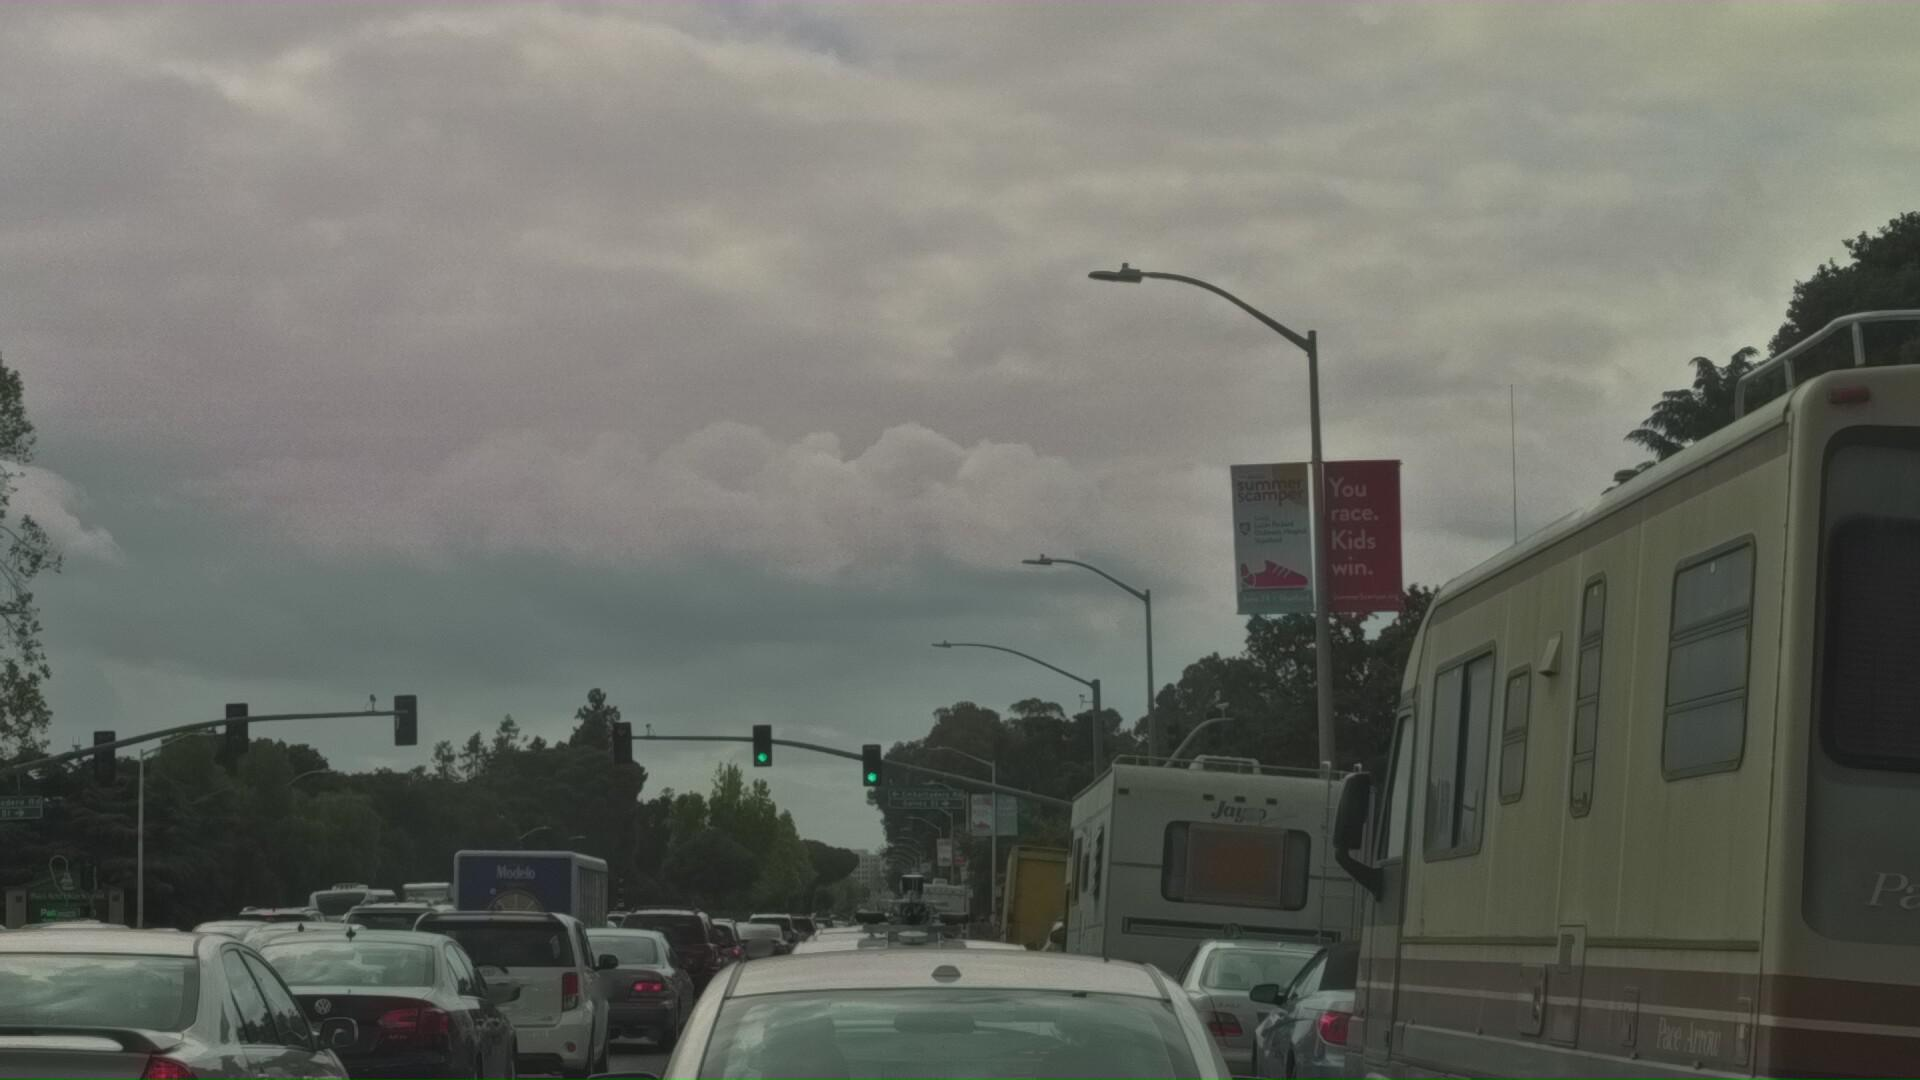bus: (448, 932, 632, 1080)
car: (545, 956, 1366, 1080), (708, 920, 1146, 1080), (0, 945, 378, 1080), (179, 996, 530, 1080), (1244, 1007, 1605, 1080), (394, 975, 632, 1080), (1147, 1005, 1416, 1080), (212, 992, 423, 1080), (757, 996, 956, 1080), (327, 982, 476, 1080), (137, 986, 289, 1080), (516, 1004, 698, 1080), (1029, 978, 1164, 1080), (595, 986, 728, 1080), (0, 971, 95, 1080), (657, 1011, 766, 1080)
other_vehicle: (1290, 251, 1920, 1080), (1060, 803, 1411, 1080)
truck: (993, 907, 1178, 1080)
